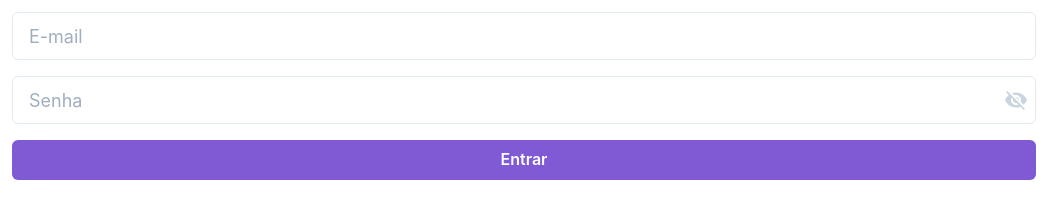
Test: SignInForm component › should submit fail
This screenshot has width=1048, height=197.
Type "fakeemail@gmail.com" into the field labelled "E-mail" at (524, 36), box [12,12,1036,60]
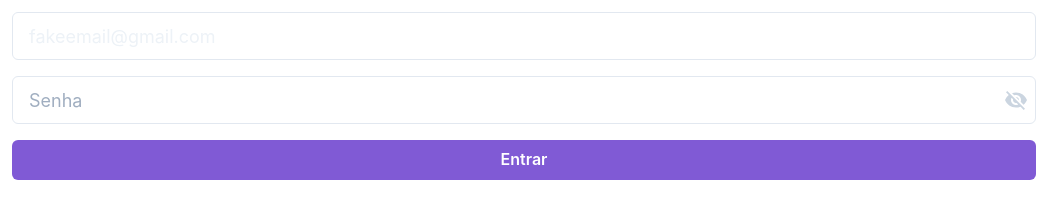
Type "fakepassword" into the password field with placeholder "Senha" at (524, 100), box [12,76,1036,124]
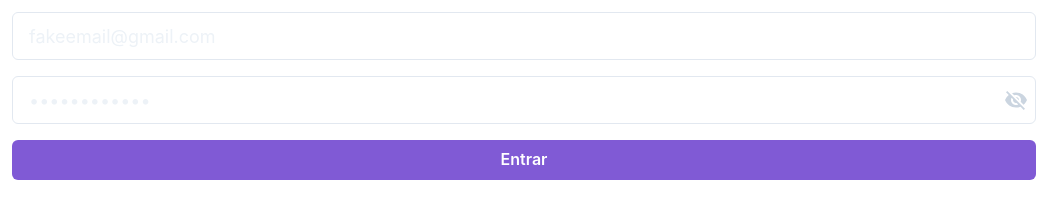
Submit the form from the button "Entrar", box [12,140,1036,180]
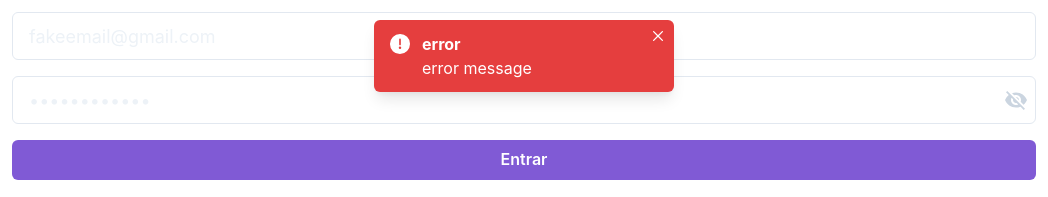
Result: the 1st text "error" is shown at [422,34,461,54]
Result: the 1st text "error message" is shown at [422,58,532,78]
